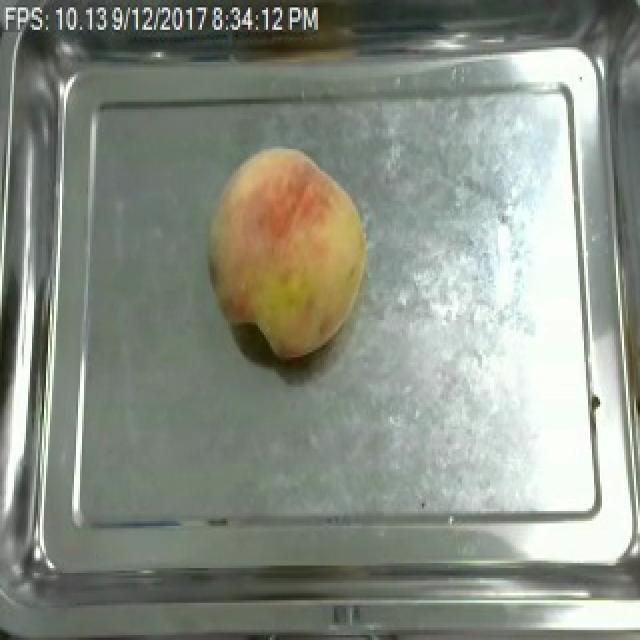Fruit: (200, 144, 376, 365)
